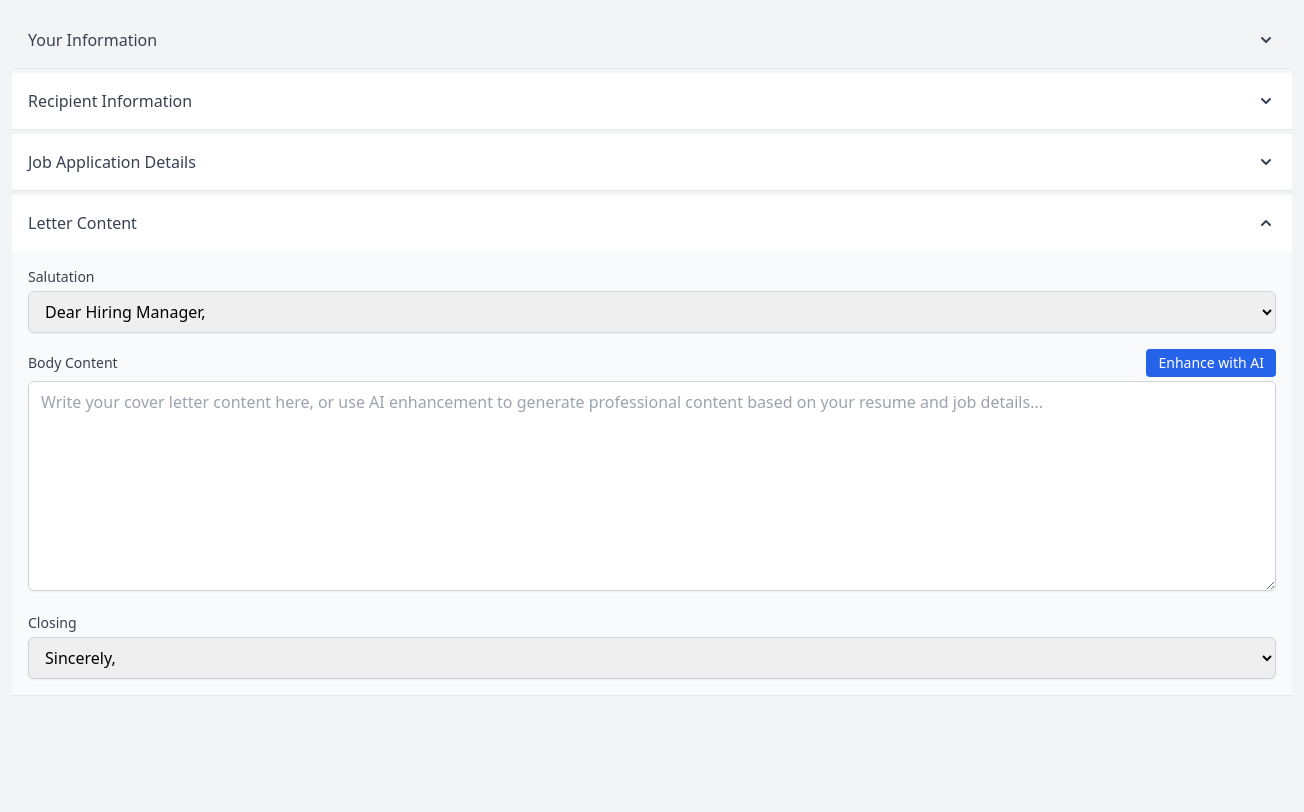
Test case: CoverLetterEditor › AI enhancement requires job title and company name
This screenshot has width=1304, height=812.
Click the button "Enhance with AI" at (1211, 363), box x1=1146 y1=349 x2=1276 y2=377
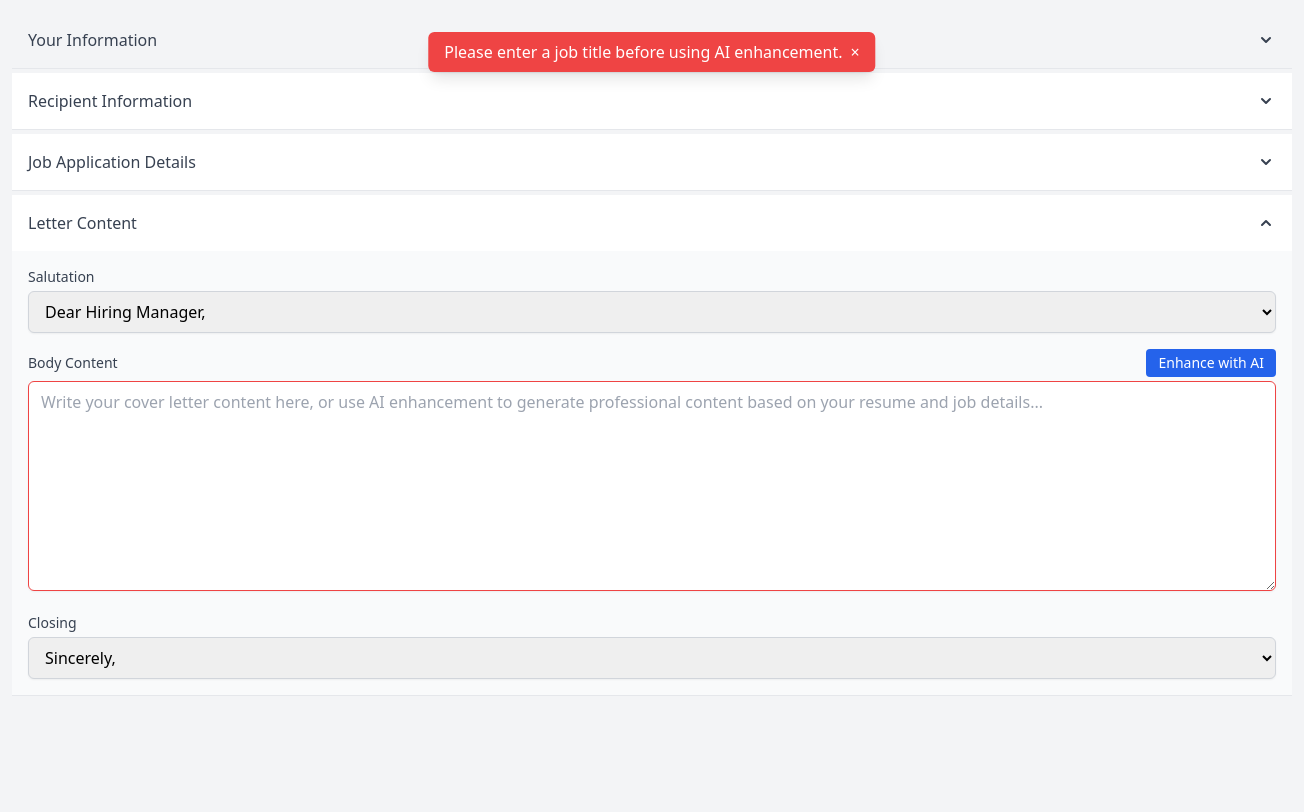
Expected: the text "Please enter a job title before using AI enhancement." is shown, x1=444 y1=40 x2=843 y2=64
